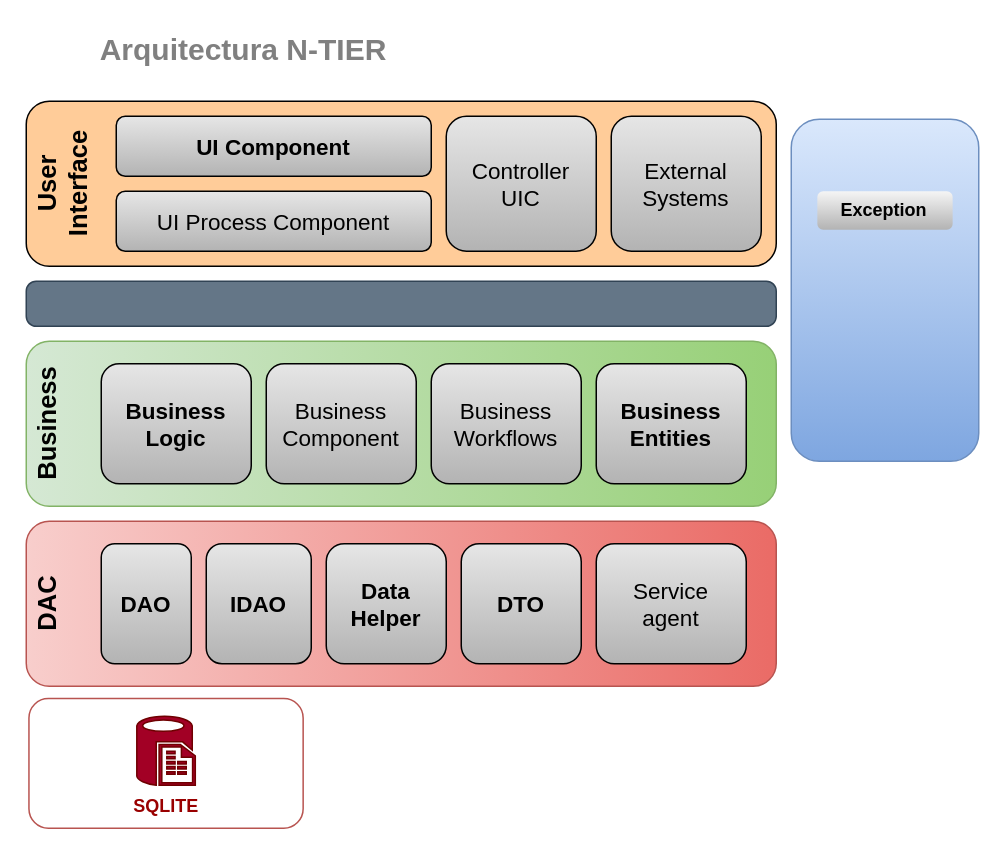
The diagram is 1005 pixels wide and 855 high, and some of its shapes have lost their labels. The shapes that lost their labels are listed below. From the top down, each one's box as (x1, y1, x2, y2) in pixels, then its label:
(25, 280, 776, 326): App/Service Facade : Contracts, Service, WF Service
(790, 118, 979, 461): Framework
(27, 697, 303, 828): Data Sources
